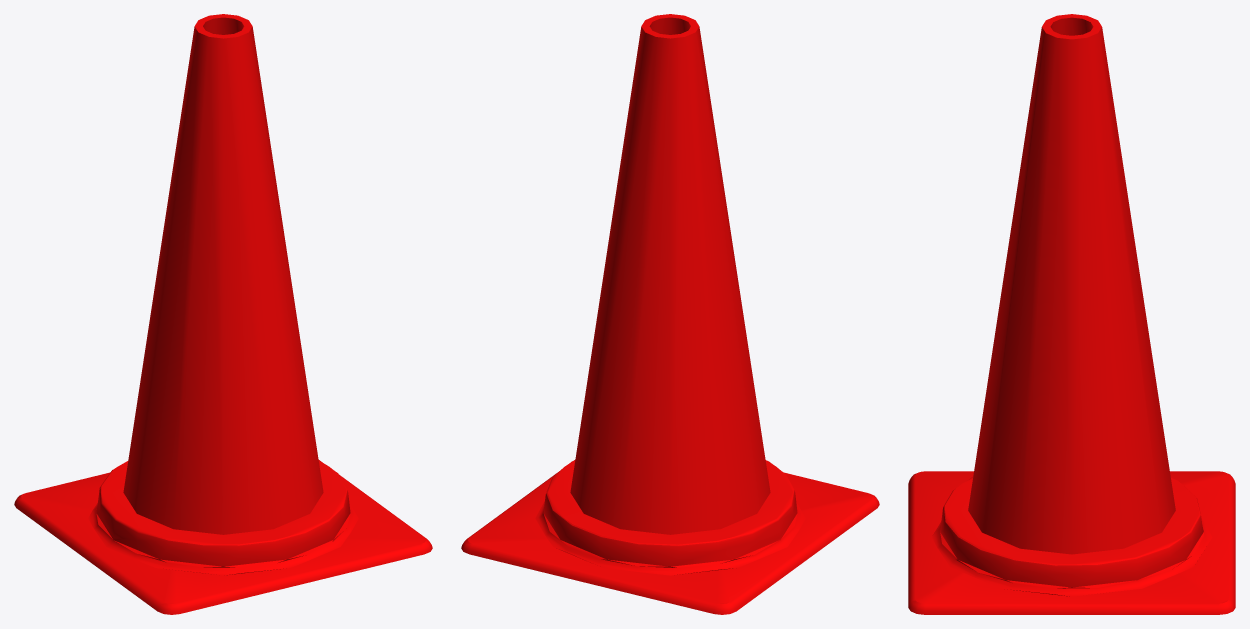
File: 3D_02カットコーン素材（単色）.fbx
3 views of the same model, side by side, from view 1: azimuth 30°, elevation 25°; view 2: azimuth 150°, elevation 25°; view 3: azimuth 270°, elevation 25° (orthographic). The views are drawn at different scales.
Parts seen in each view (by area): view 1: 3D ソリッド; view 2: 3D ソリッド; view 3: 3D ソリッド.
Part boxes in pixels (box(x1,y1,x2,y2)): 3D ソリッド: box(14, 14, 432, 614); 3D ソリッド: box(461, 14, 879, 614); 3D ソリッド: box(908, 14, 1235, 614).
Bounding box in the file's own units: 0.38 × 0.38 × 0.665.
